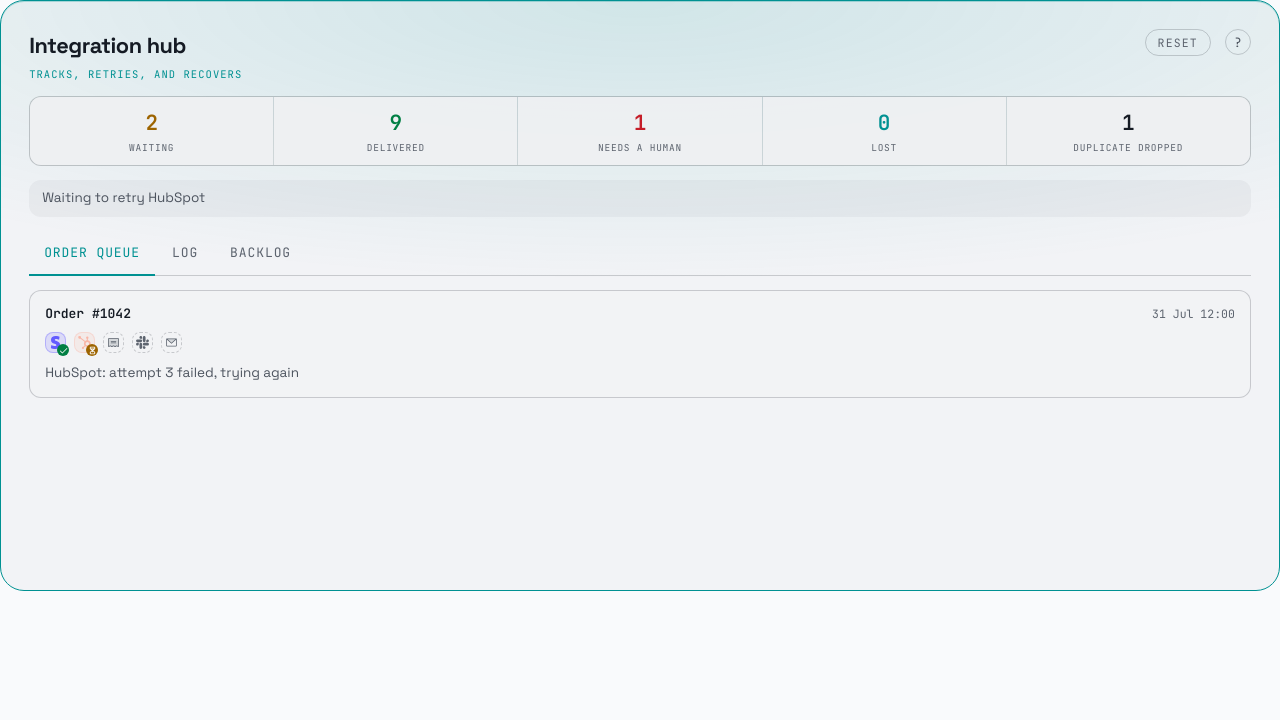
Mediator › shows what just happened under the log tab
Click the tab with test id "hub-tab-log".
click(185, 254)  # box [157,231,213,276]
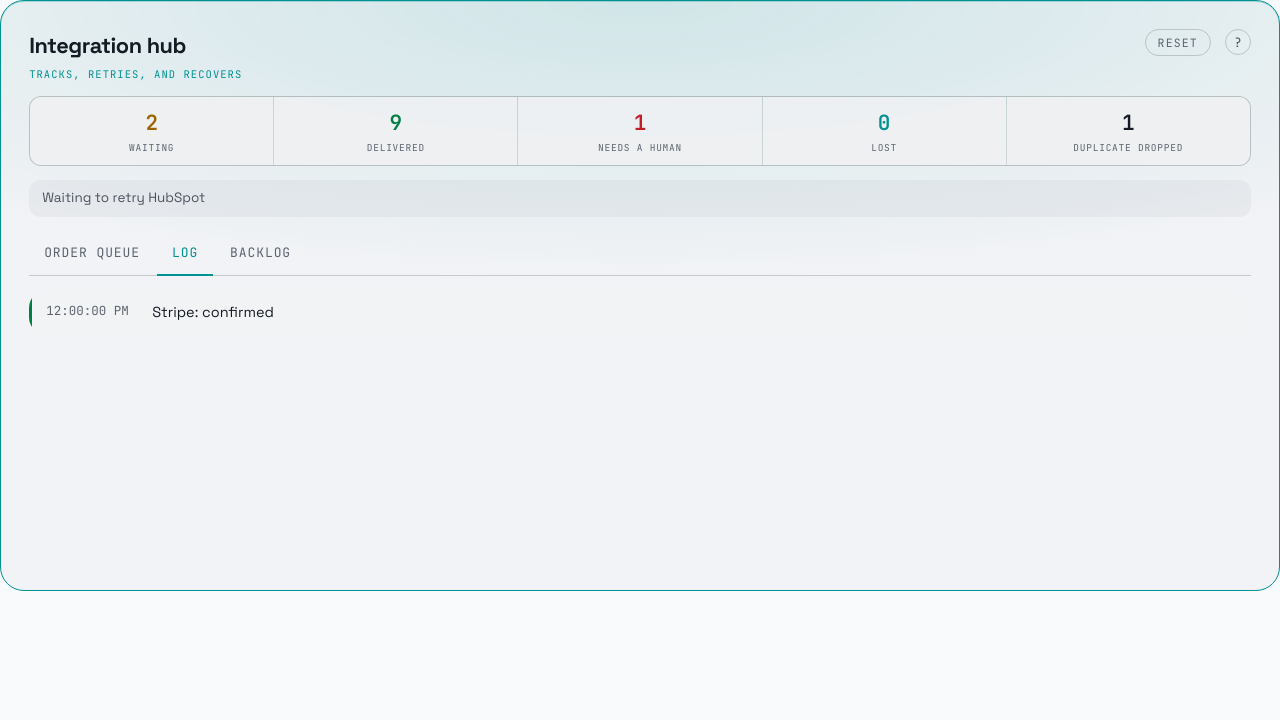
Check: the text "Stripe: confirmed" is shown, box [152,303,274,321]
